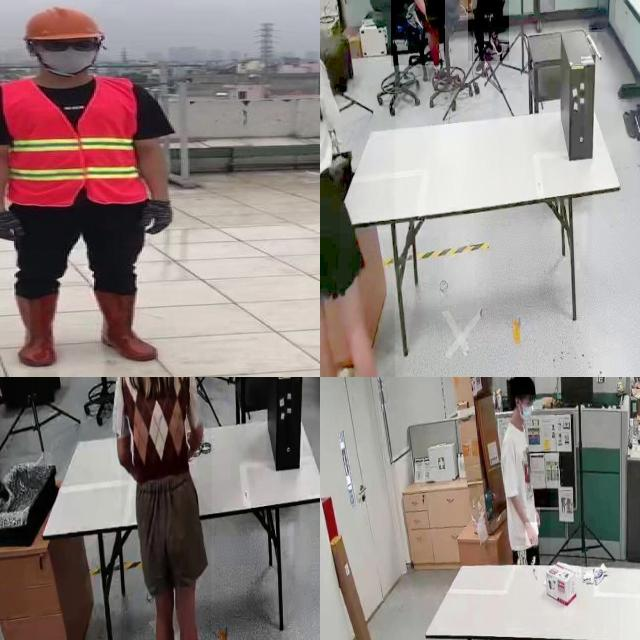boots: (92, 289, 158, 363), (14, 294, 58, 368)
face_mask: (516, 395, 537, 427)
hand_noglove: (525, 522, 539, 546), (535, 507, 541, 526)
head_helmet: (20, 5, 104, 42)
head_nohelmet: (510, 377, 535, 395)
person: (0, 2, 190, 367), (320, 0, 395, 377), (121, 377, 212, 640), (499, 377, 551, 562), (390, 0, 445, 66), (468, 0, 509, 61)
shoes: (488, 28, 506, 58), (474, 49, 492, 79)
vest: (0, 76, 149, 209)
